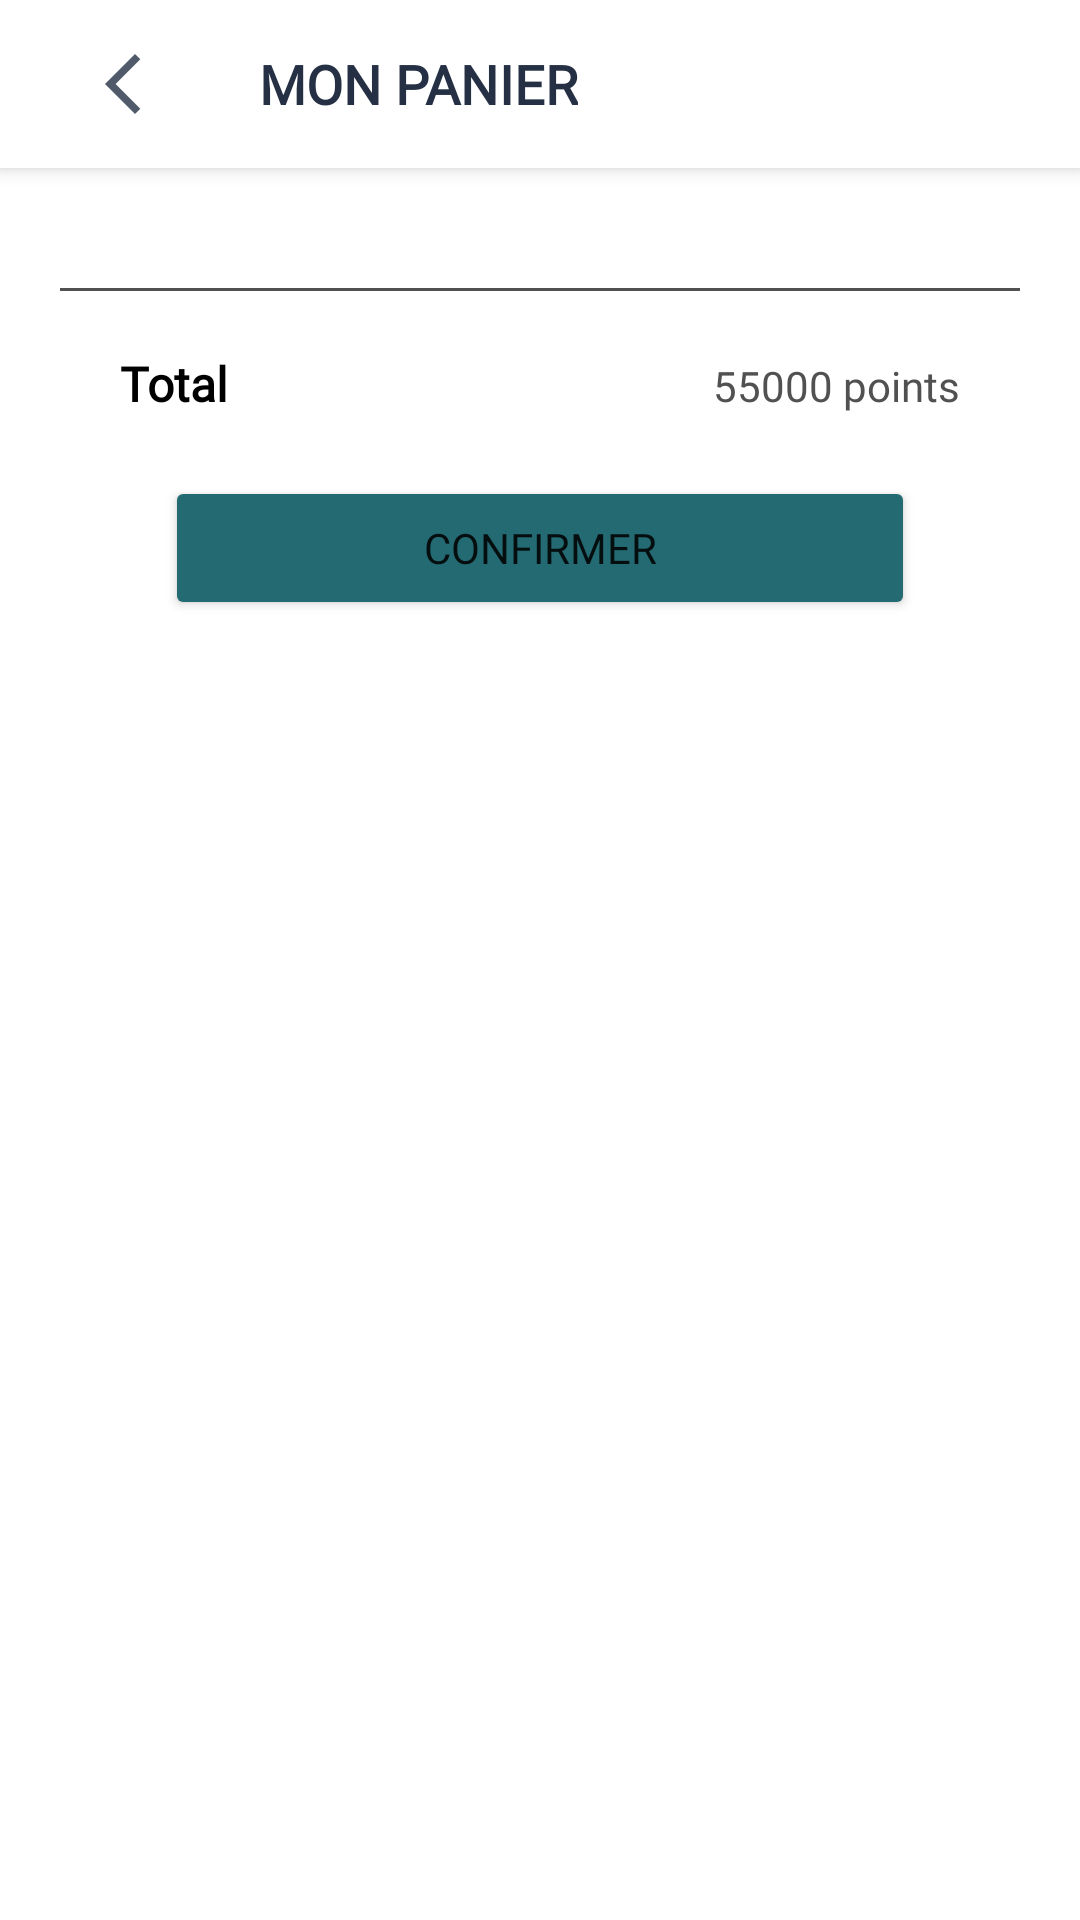

Point at icon controls on the screen. Image size 1080 x 1920, points as (x,y).
back: (122,84)
